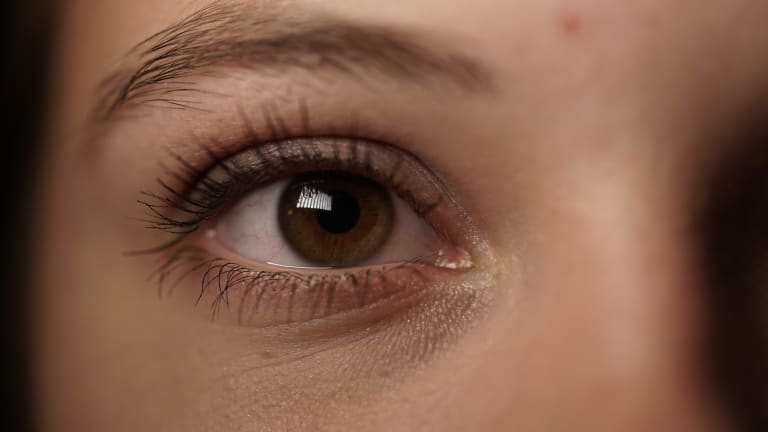iris: (276, 154, 397, 269)
pupil: (314, 190, 360, 234)
